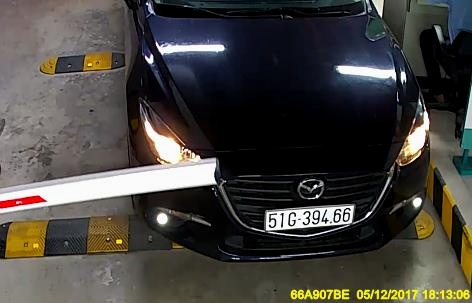plate: (262, 198, 355, 231)
